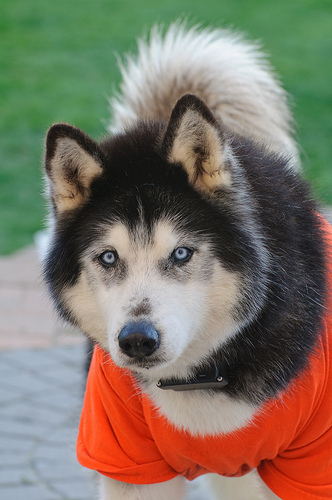dog: (37, 12, 329, 498)
